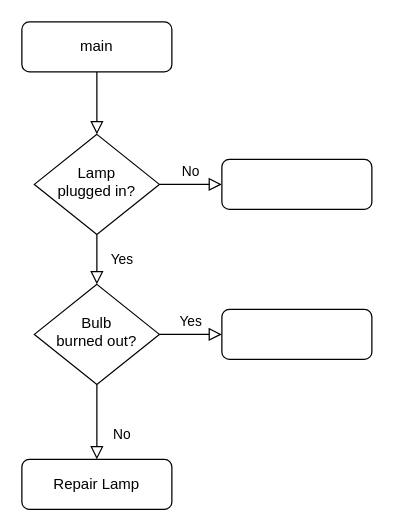
The diagram is 394 pixels wide and 531 high, and some of its shapes have lost their labels. Here are the shapes that lost their labels. From the top down, the box of each, then its label:
(221, 158, 372, 209): Plug in lamp
(221, 308, 372, 359): Replace Bulb
